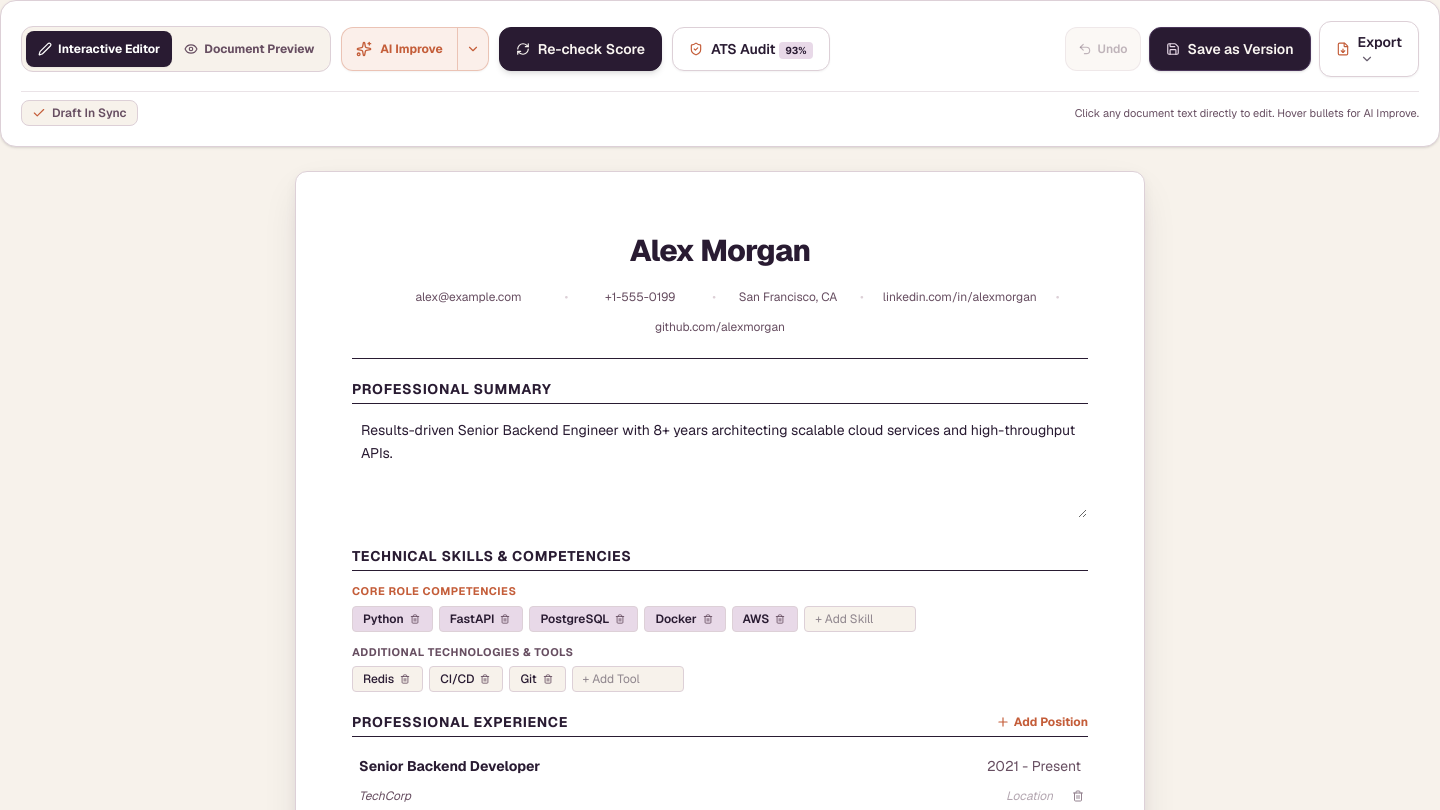
Test: Phase 6.5: InteractiveResumeEditor Candidate Name & Hybrid AI Improve UX › hides contextual AI controls in Document Preview mode
# Switch to Document Preview mode
Click the button "Document Preview" at (249, 49), box left=172, top=31, right=326, bottom=67
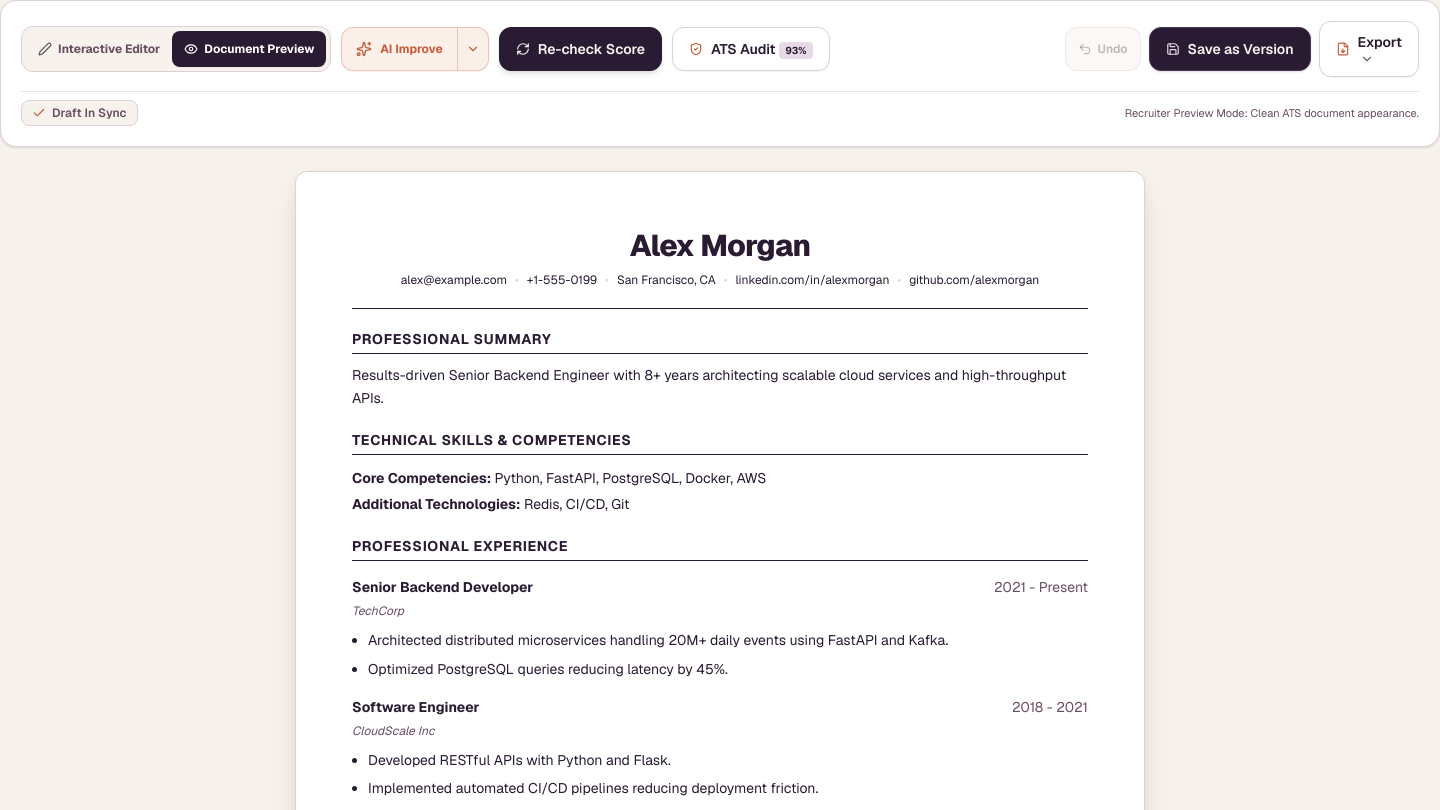
Now the text "Recruiter Preview Mode: Clean ATS document appearance." is shown, box left=1125, top=106, right=1419, bottom=120
